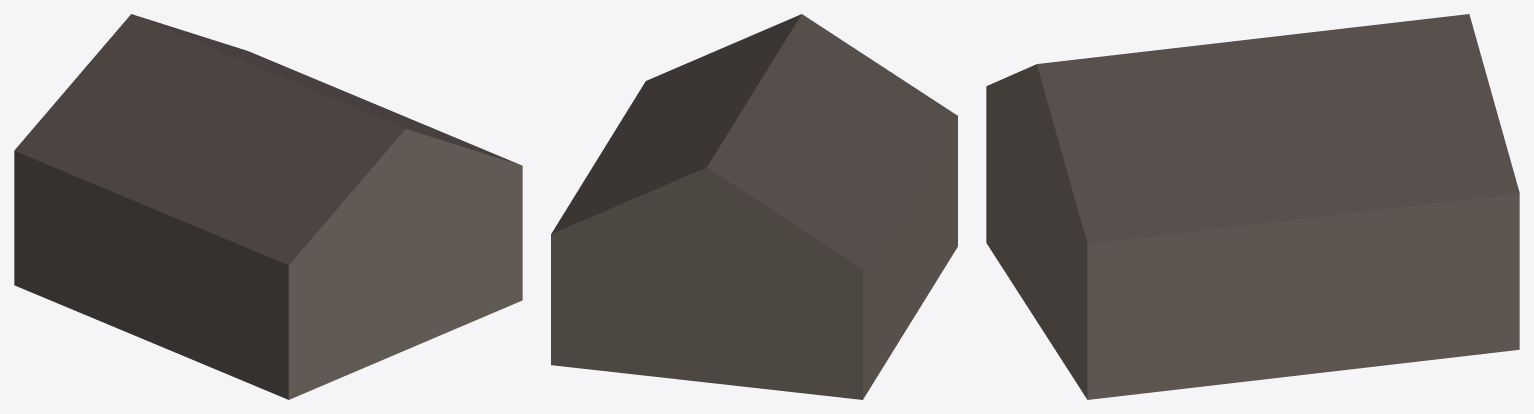
3 views of the same model, side by side, from view 1: azimuth 30°, elevation 25°; view 2: azimuth 150°, elevation 25°; view 3: azimuth 270°, elevation 25° (orthographic). The views are drawn at different scales.
Visible parts, largest first — view 1: HP-w1376988786; view 2: HP-w1376988786; view 3: HP-w1376988786.
Boxes of the visible parts, <box> form: HP-w1376988786: <box>14,14,522,399</box>; HP-w1376988786: <box>551,14,957,399</box>; HP-w1376988786: <box>986,14,1519,399</box>.
Size of the model in its own units: 17.08 by 9.88 by 18.57.
